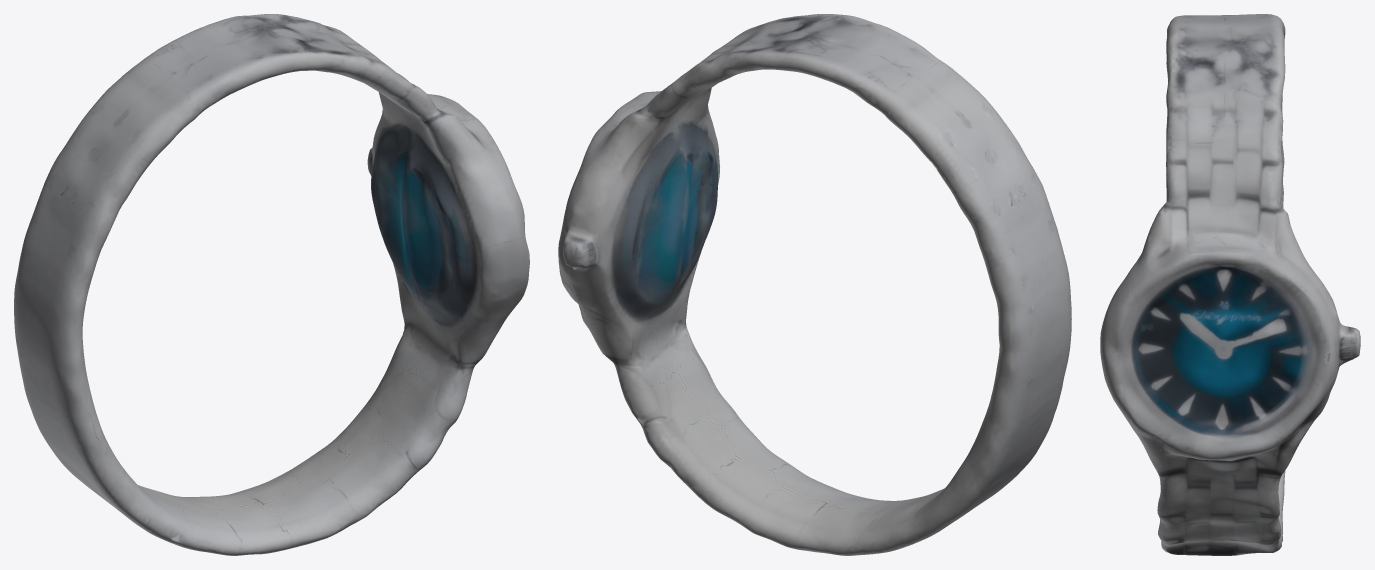
File: watch1.1.glb
3 renders of one model, left to right at view 1: azimuth 30°, elevation 25°; view 2: azimuth 150°, elevation 25°; view 3: azimuth 270°, elevation 25°, orthographic.
Size of the model in its own units: 1.15 by 1.2 by 0.5756.
1 material, 1 textured.
